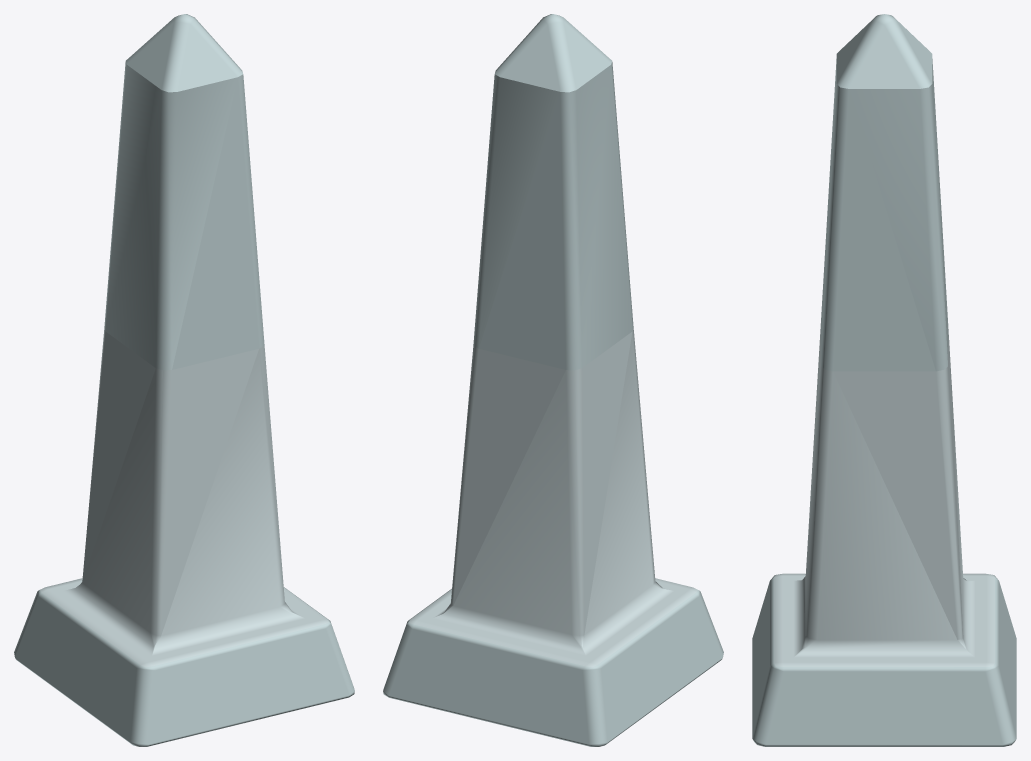
File: statue_obelisk.glb
3 renders of one model, left to right at view 1: azimuth 30°, elevation 25°; view 2: azimuth 150°, elevation 25°; view 3: azimuth 270°, elevation 25°, orthographic. The views are drawn at different scales.
Parts seen in each view (by area): view 1: statue_obelisk; view 2: statue_obelisk; view 3: statue_obelisk.
Part boxes in pixels (x1,y1,x2,y2): statue_obelisk: (14,14,354,746); statue_obelisk: (383,14,723,746); statue_obelisk: (752,14,1016,746).
Size of the model in its own units: 0.3041 by 0.8619 by 0.3041.
